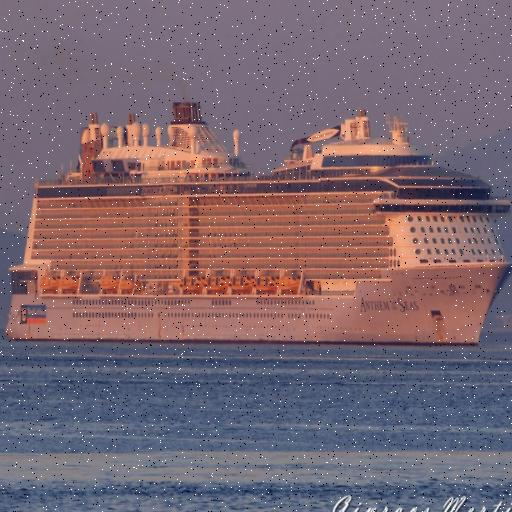cruises: (2, 97, 512, 350)
